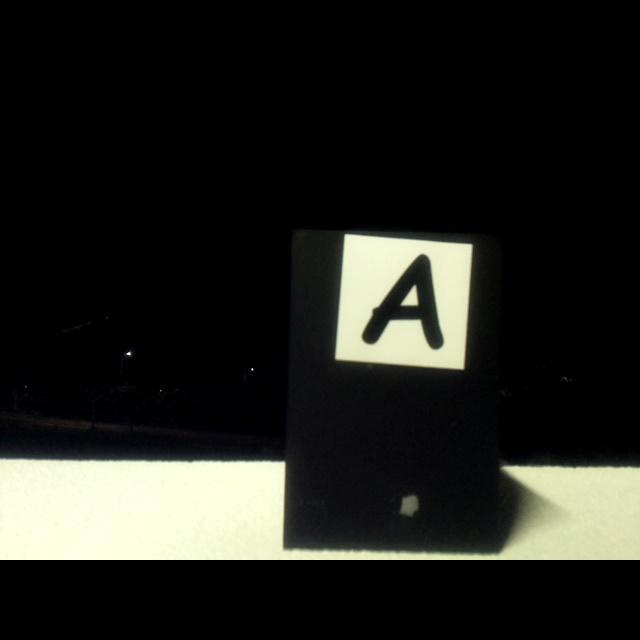A: (362, 253, 444, 350)
